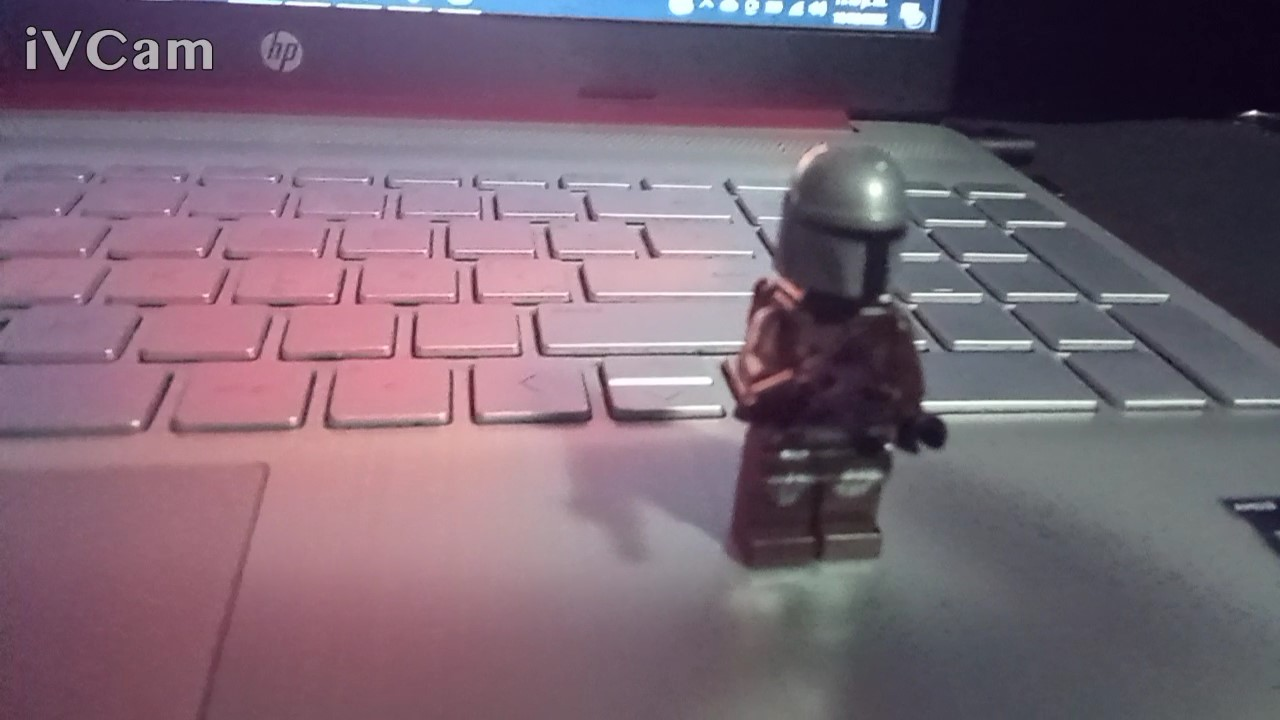mandalorian: (697, 119, 966, 591)
